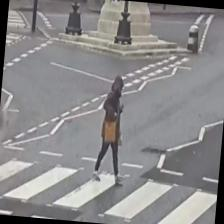person: (93, 74, 133, 184)
